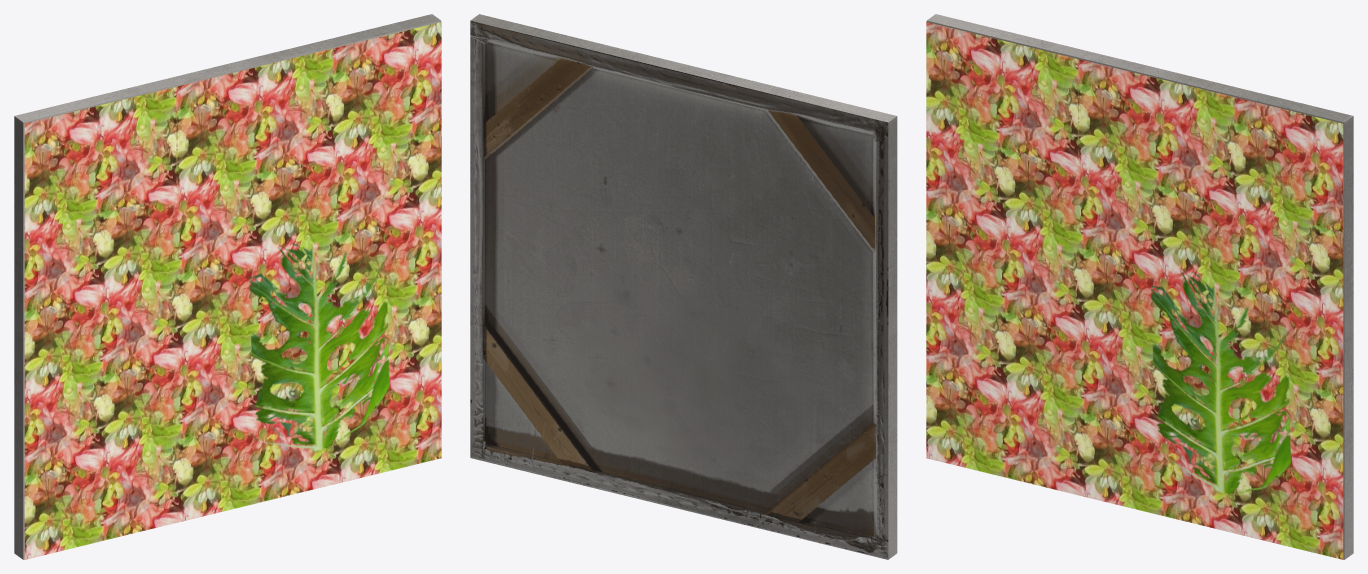
The model's file is wallflower-dlc-dc3fe60e.glb.
The picture shows the model from 3 angles, left to right: view 1: azimuth 30°, elevation 25°; view 2: azimuth 150°, elevation 25°; view 3: azimuth 330°, elevation 25°; orthographic projection.
Parts seen in each view (by area): view 1: Canvas, stretcher; view 2: stretcher; view 3: Canvas, stretcher.
Boxes of the visible parts, <box> form: Canvas: <box>24,22,441,559</box>; stretcher: <box>14,14,441,559</box>; stretcher: <box>470,14,897,559</box>; Canvas: <box>926,22,1343,559</box>; stretcher: <box>926,14,1353,559</box>.
Size of the model in its own units: 3.04 by 3.04 by 0.1252.
Materials: 3 (3 with a texture image).
